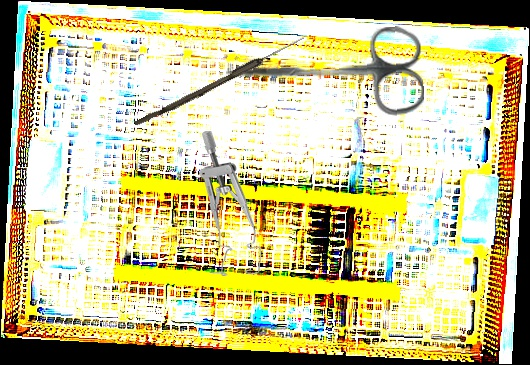Iris Scissors: (224, 25, 425, 122)
Speculum: (197, 130, 264, 278)
Surgical Spoon: (134, 32, 306, 131)
